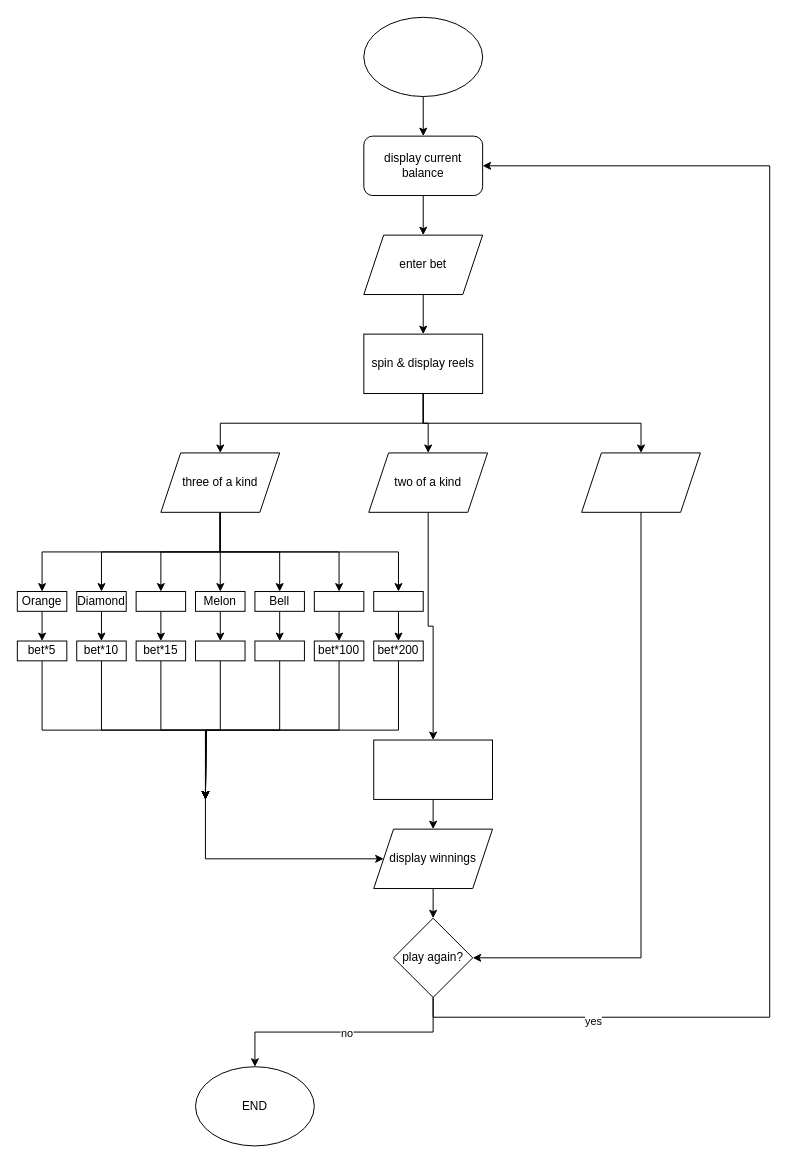
The diagram is 795 pixels wide and 1163 high, and some of its shapes have lost their labels. The box of each missing label's shape, as (x1, y1, x2, y2) in pixels:
bet*20: (195, 640, 245, 661)
bet*50: (254, 640, 304, 661)
Cherry: (135, 591, 186, 611)
Grape: (313, 591, 364, 611)
multiply bet by 2: (373, 739, 493, 799)
no combination: (581, 452, 700, 512)
Seven: (373, 591, 423, 611)
START: (363, 16, 483, 97)
